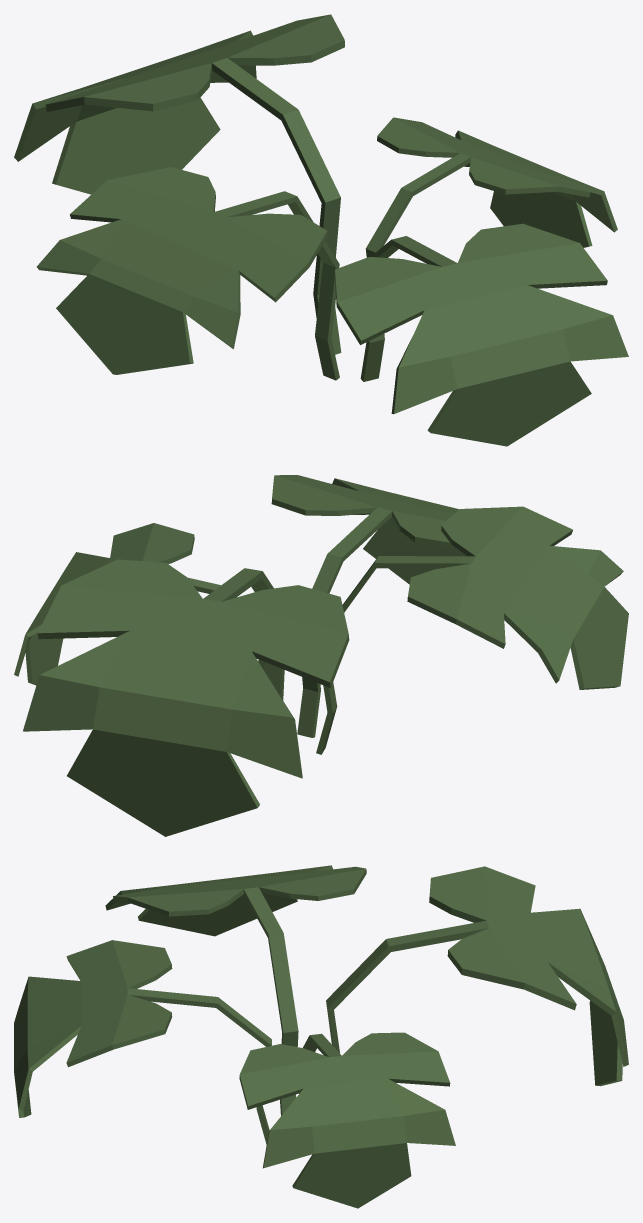
The model's file is Plant 4.glb.
3 views of the same model, one above another, from view 1: azimuth 30°, elevation 25°; view 2: azimuth 150°, elevation 25°; view 3: azimuth 270°, elevation 25° (orthographic). The views are drawn at different scales.
Visible parts, largest first — view 1: Plant_4; view 2: Plant_4; view 3: Plant_4.
Part boxes in pixels (x1,y1,x2,y2): Plant_4: [14, 14, 628, 446]; Plant_4: [14, 475, 628, 836]; Plant_4: [14, 865, 628, 1208].
Bounding box in the file's own units: 1.91 × 0.8109 × 2.12.
